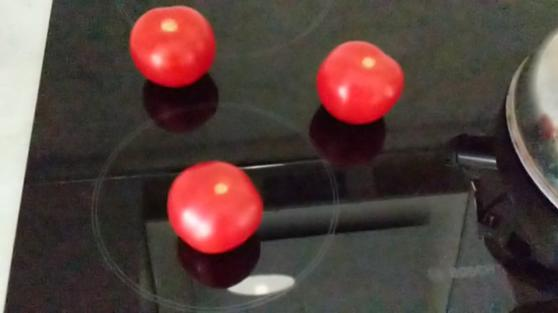tomato: (167, 160, 265, 253), (315, 39, 405, 124), (130, 6, 216, 86)
